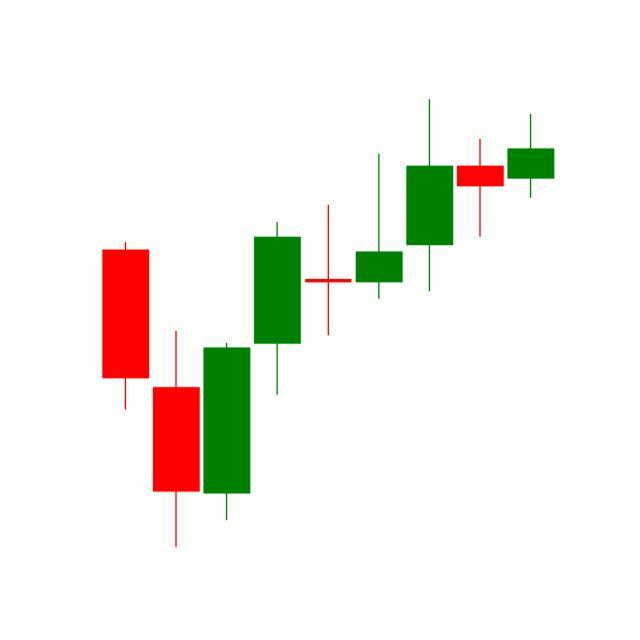Hikkake Pattern: (302, 99, 555, 340)
